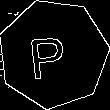P_N: (32, 26, 75, 81)
